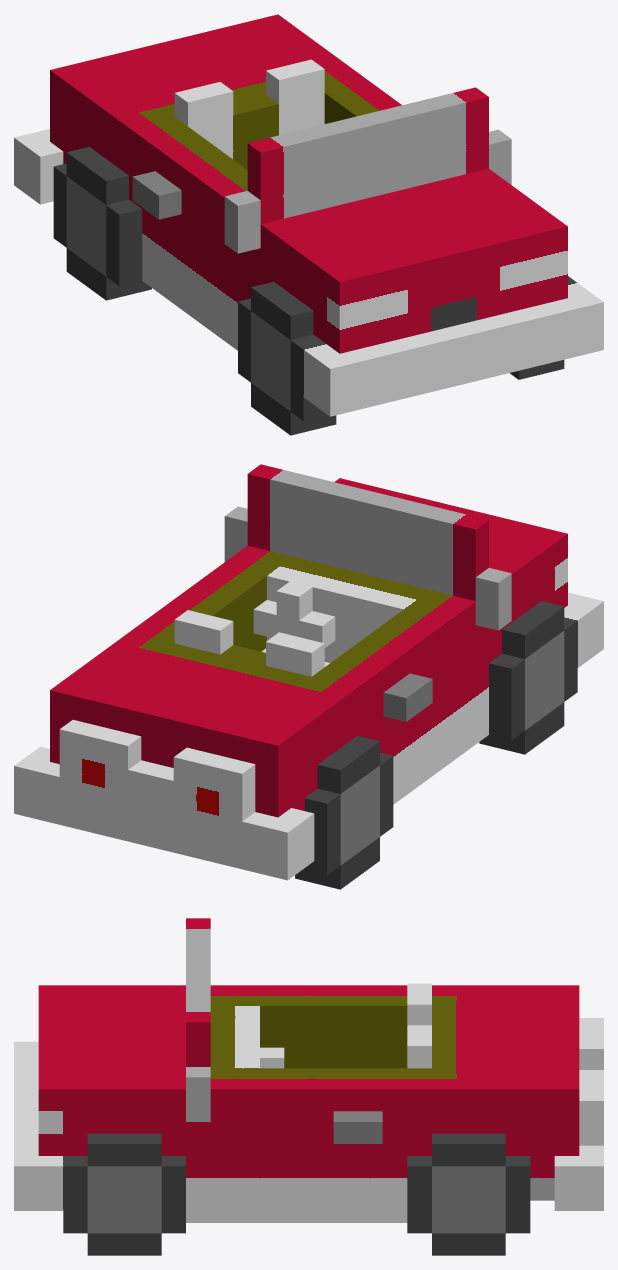
The model's file is MiniCarOpen.dae.
The picture shows the model from 3 angles, top to bottom: view 1: azimuth 30°, elevation 25°; view 2: azimuth 150°, elevation 25°; view 3: azimuth 270°, elevation 25°; orthographic projection. The views are drawn at different scales.
Visible parts, largest first — view 1: MiniCarOpen; view 2: MiniCarOpen; view 3: MiniCarOpen.
Part boxes in pixels (x1,y1,x2,y2): MiniCarOpen: (14, 14, 603, 435); MiniCarOpen: (14, 464, 603, 889); MiniCarOpen: (14, 918, 603, 1255).
Size of the model in its own units: 1.2 by 2.4 by 1.
1 material, 1 textured.
